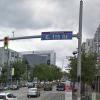Traffic light: (2, 30, 13, 55)
